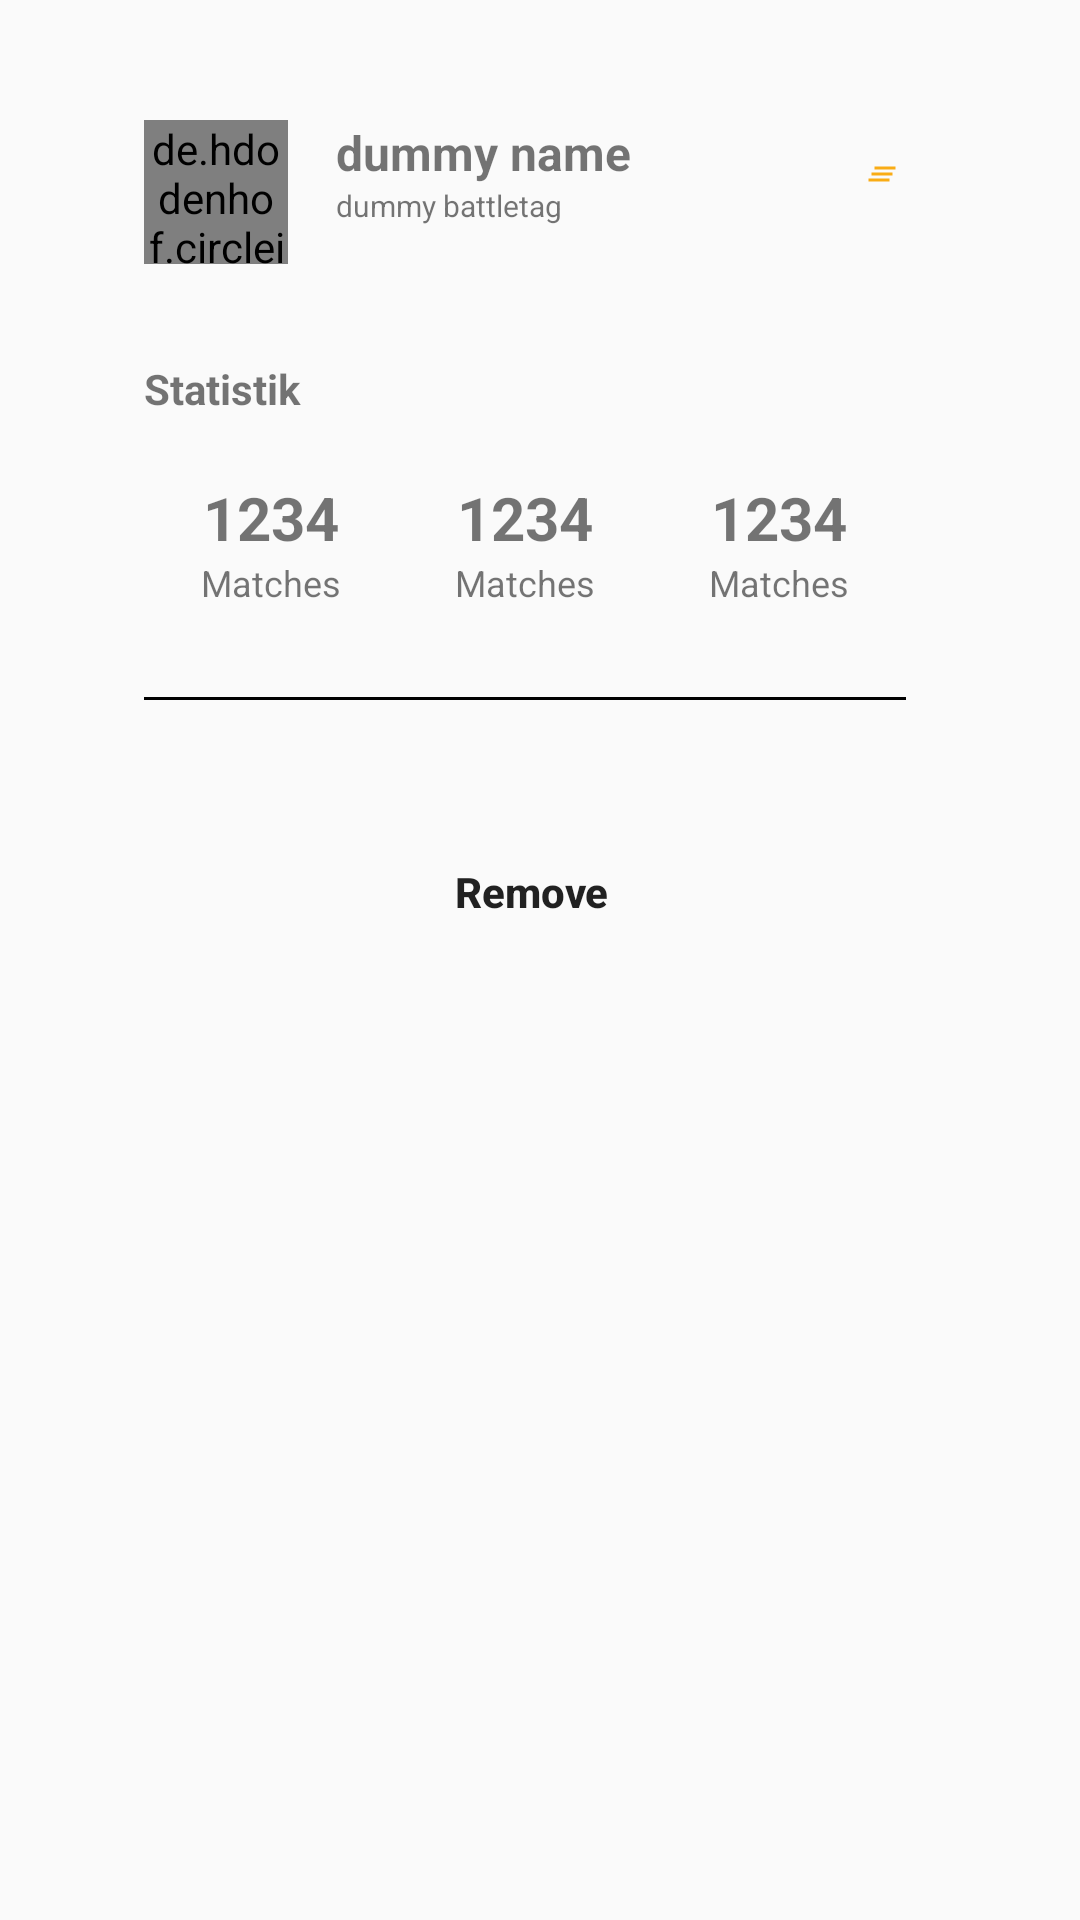

Screen size 1080x1920. Icon name, then its box in pixels as region(x1, y1, x2, y2):
clear all: region(868, 166, 896, 182)
